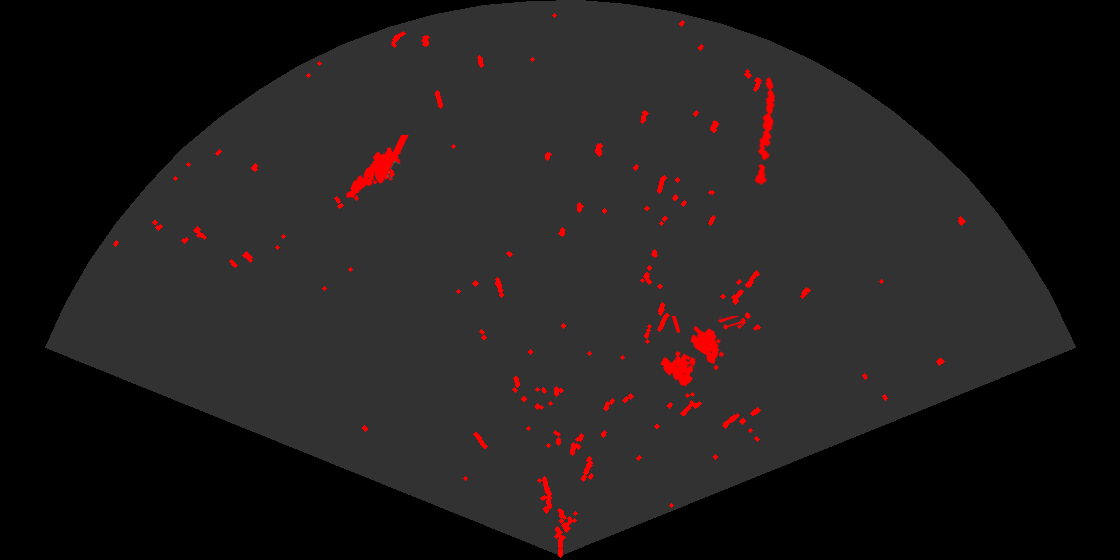cage: (659, 316, 743, 388)
chain: (753, 75, 777, 187)
frogman: (344, 135, 410, 200)
